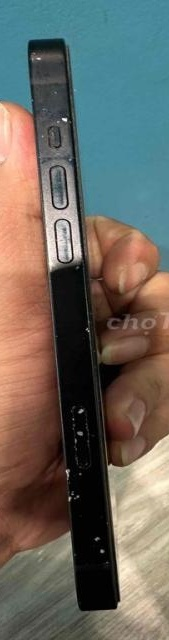scratch: (41, 395, 122, 594), (29, 39, 87, 197), (58, 206, 109, 385)
